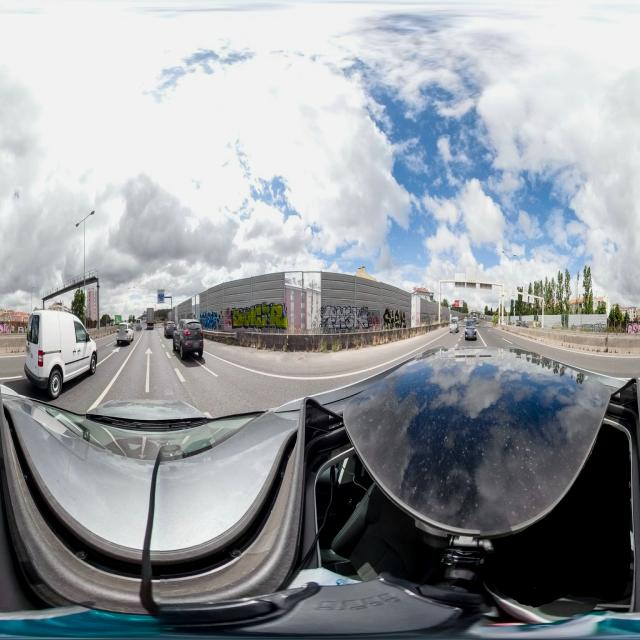car: (23, 308, 98, 400), (173, 317, 204, 361), (116, 322, 132, 347), (464, 318, 478, 342), (448, 315, 459, 333), (164, 320, 175, 338), (127, 322, 135, 340)
